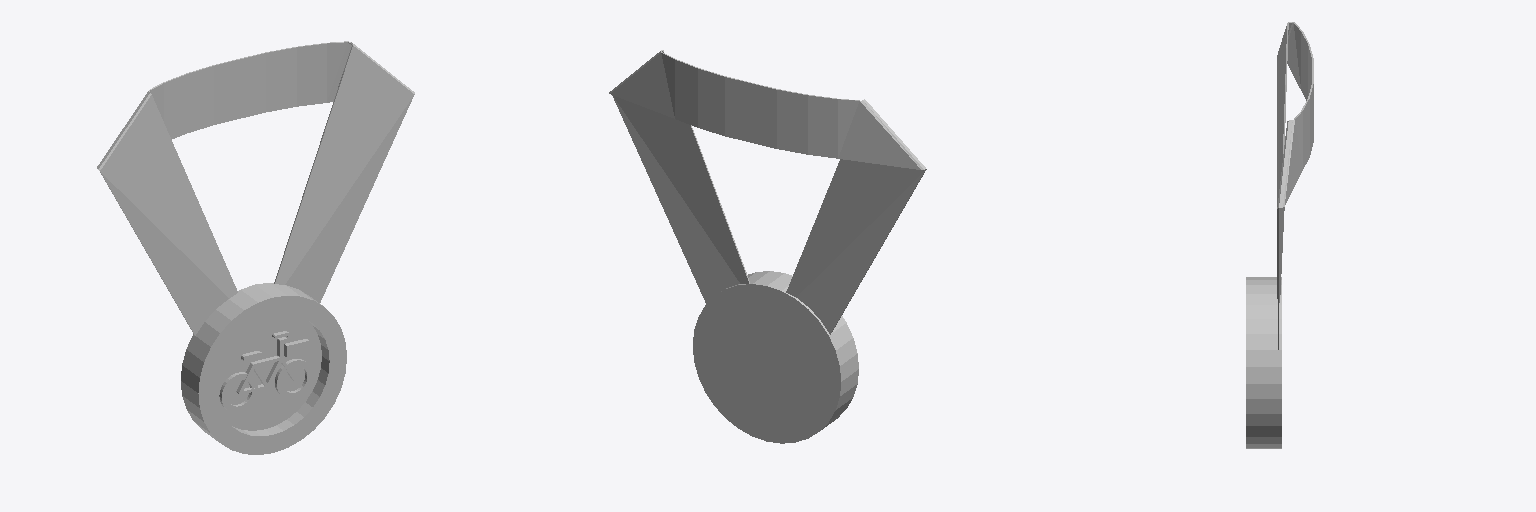
The model's file is TransportMedal001.obj.
3 views of the same model, side by side, from view 1: azimuth 30°, elevation 25°; view 2: azimuth 150°, elevation 25°; view 3: azimuth 270°, elevation 25° (orthographic).
Visible parts, largest first — view 1: MedalTransport.001_Circle.004; view 2: MedalTransport.001_Circle.004; view 3: MedalTransport.001_Circle.004.
Part boxes in pixels (x1,y1,x2,y2): MedalTransport.001_Circle.004: (97,41,414,454); MedalTransport.001_Circle.004: (609,50,926,443); MedalTransport.001_Circle.004: (1246,22,1313,448).
Size of the model in its own units: 4.25 by 4.75 by 0.7827.